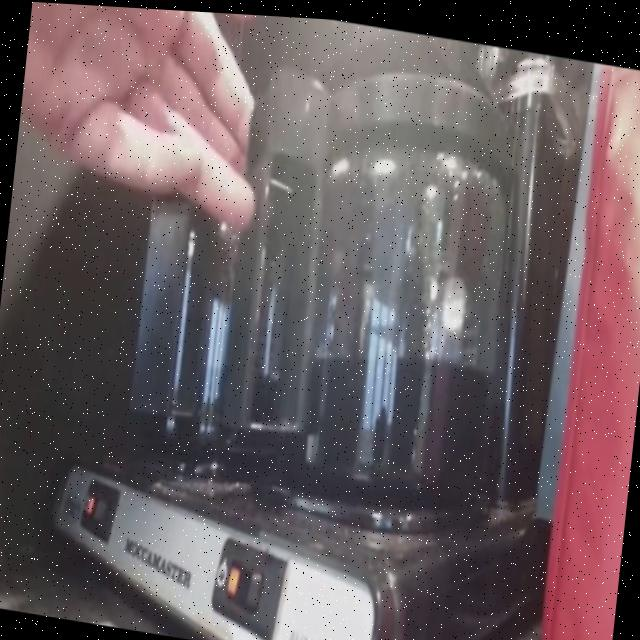coffee: (256, 52, 550, 548), (104, 63, 374, 484)
